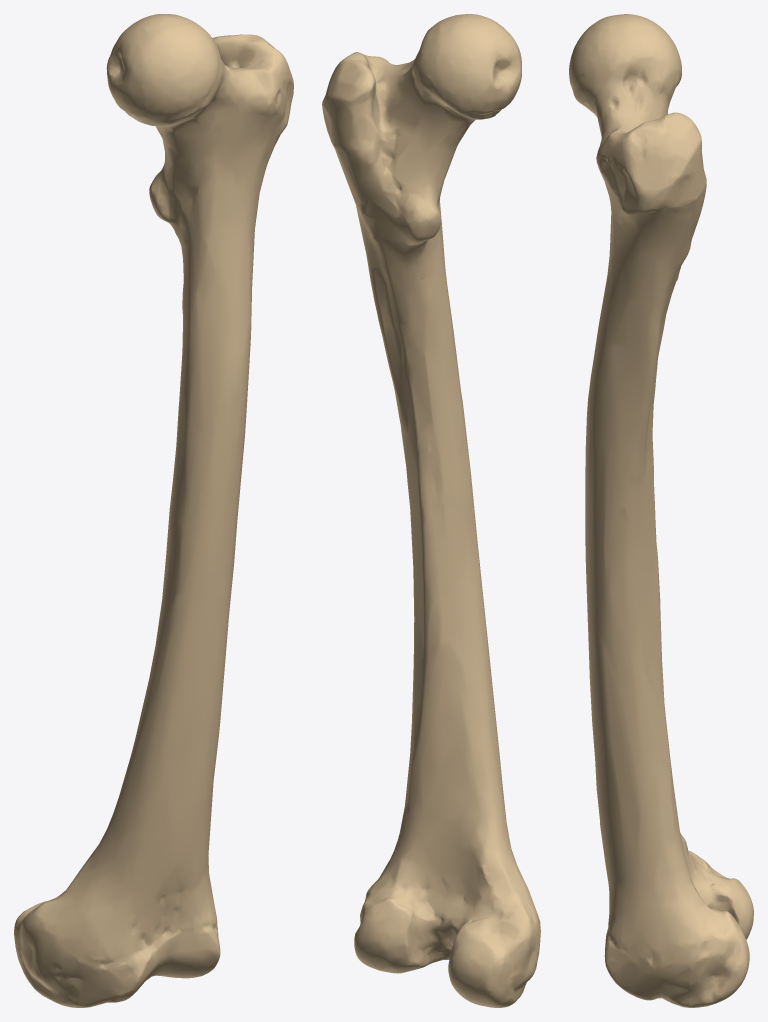
The model's file is explorar-femur.glb.
The picture shows the model from 3 angles, left to right: view 1: azimuth 30°, elevation 25°; view 2: azimuth 150°, elevation 25°; view 3: azimuth 270°, elevation 25°; orthographic projection. The views are drawn at different scales.
Visible parts, largest first — view 1: femur_left__cuerpo, femur_left__base, femur_left__condilos, femur_left__cabeza; view 2: femur_left__cuerpo, femur_left__base, femur_left__condilos, femur_left__cabeza; view 3: femur_left__cuerpo, femur_left__base, femur_left__condilos, femur_left__cabeza.
Boxes of the visible parts, x1,y1,x2,y2 form: femur_left__cuerpo: (91,149,273,890); femur_left__base: (42,34,293,938); femur_left__condilos: (14,878,220,1007); femur_left__cabeza: (106,14,236,131); femur_left__cuerpo: (338,152,509,850); femur_left__base: (322,49,537,915); femur_left__condilos: (354,859,540,1007); femur_left__cabeza: (397,14,521,124); femur_left__cuerpo: (585,201,702,886); femur_left__base: (596,59,707,930); femur_left__condilos: (604,850,753,1007); femur_left__cabeza: (569,14,681,118).
Size of the model in its own units: 0.1113 by 0.4402 by 0.0756.
